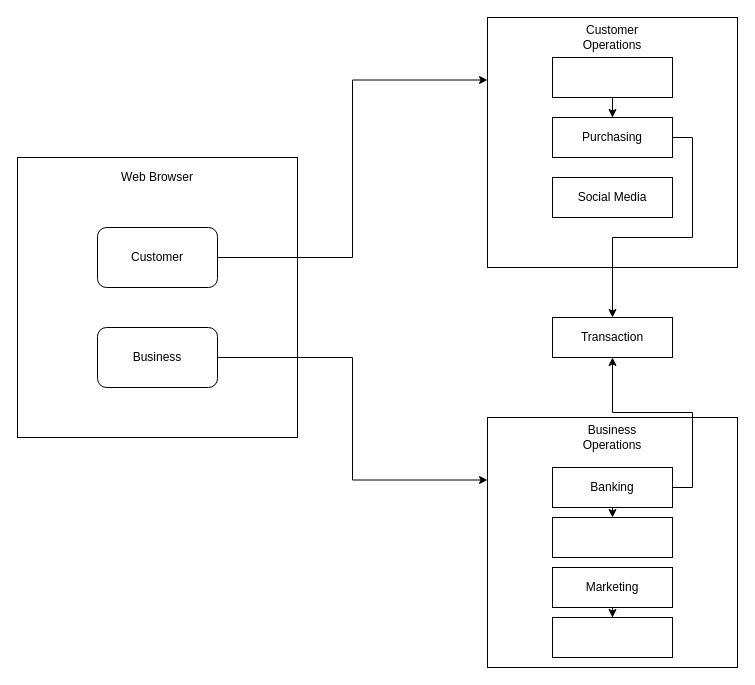
Image size: 755x685. Some labels were removed from this diagram. The centre of each missing label's shape, as x and y in pixels:
"Customer List" belongs at (612,637).
"Fraud Detection" belongs at (612,537).
"Shopping" belongs at (612,77).
